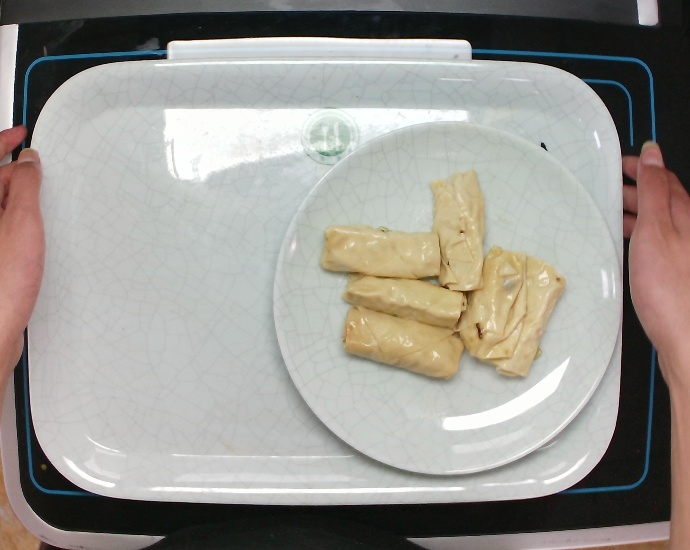JYsf-Da_Yuan_Pan: (270, 111, 629, 481)
